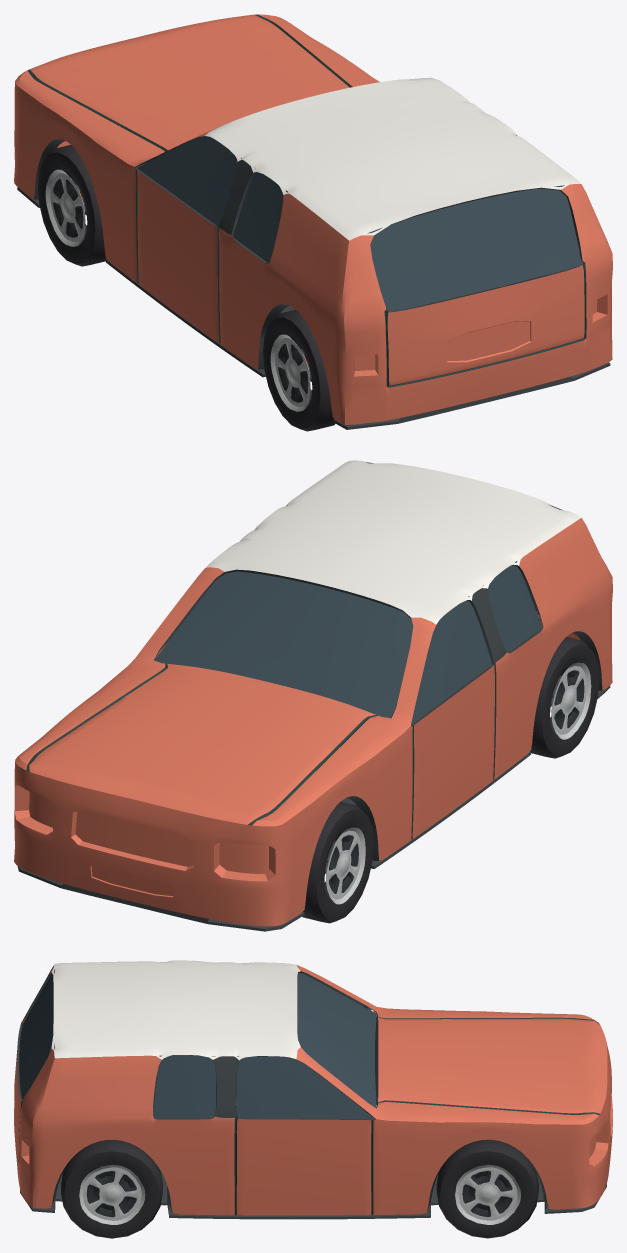
The model's file is forge_closed_hatch_lod2.fbx.
3 views of the same model, one above another, from view 1: azimuth 30°, elevation 25°; view 2: azimuth 150°, elevation 25°; view 3: azimuth 270°, elevation 25° (orthographic). The views are drawn at different scales.
Parts seen in each view (by area): view 1: Body, Wheel_RL_Mesh, Wheel_FL_Mesh; view 2: Body, Wheel_FL_Mesh, Wheel_RL_Mesh; view 3: Body, Wheel_FR_Mesh, Wheel_RR_Mesh.
Part boxes in pixels (bbox=[...]): Body: bbox=[14, 14, 612, 429]; Wheel_RL_Mesh: bbox=[263, 309, 335, 431]; Wheel_FL_Mesh: bbox=[38, 145, 106, 266]; Body: bbox=[14, 460, 612, 931]; Wheel_FL_Mesh: bbox=[302, 801, 373, 923]; Wheel_RL_Mesh: bbox=[530, 637, 599, 758]; Body: bbox=[14, 960, 612, 1219]; Wheel_FR_Mesh: bbox=[436, 1139, 538, 1238]; Wheel_RR_Mesh: bbox=[61, 1139, 162, 1238].
Bounding box in the file's own units: 154 × 117 × 341.
